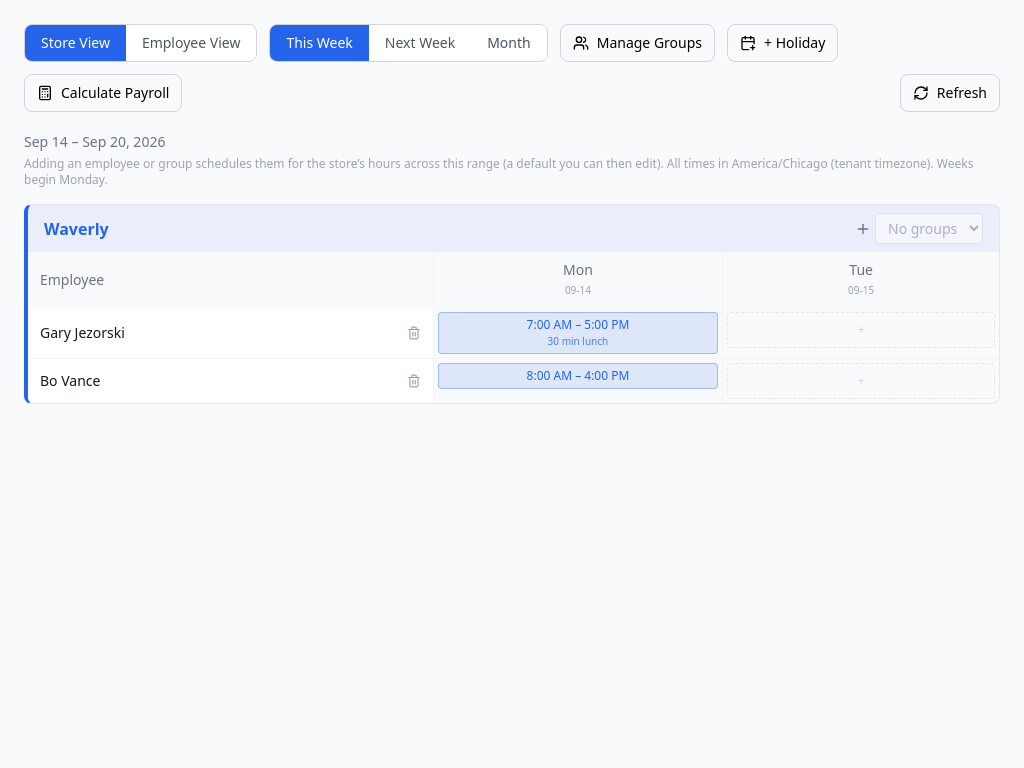
Test case: Calculate Payroll button › scopes an Employee View projection to the selected employee
Check: the heading "Waverly" is shown, box [44,216,109,240]
Click the button "Employee View" at {"x": 191, "y": 43}, box [126,25,256,61]
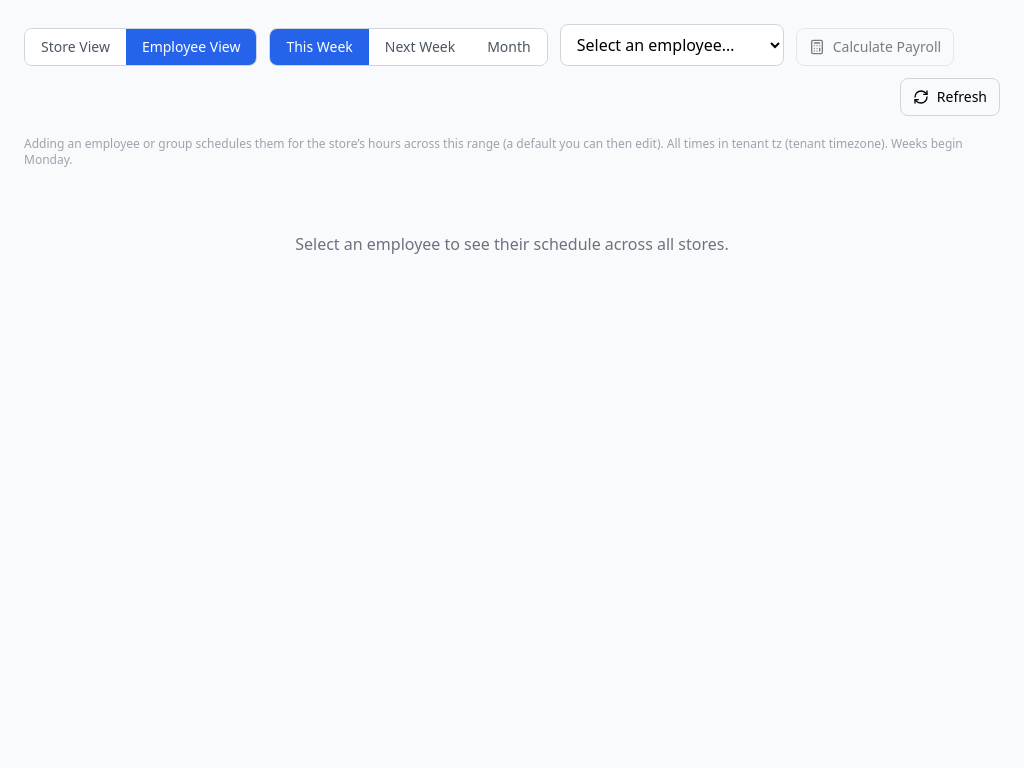
Check: the button "Calculate Payroll" is disabled, box [796,28,954,66]
Select "Gary Jezorski" in the dropdown showing "Select an employee…" at {"x": 672, "y": 45}, box [560,24,784,66]
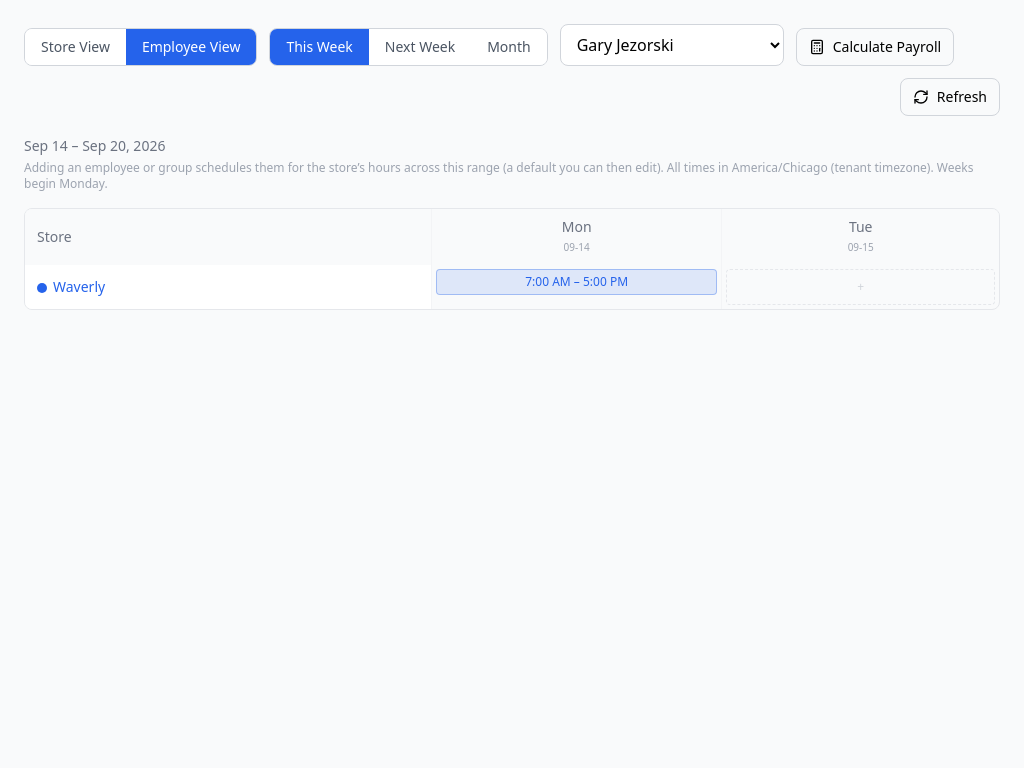
Check: the button "Calculate Payroll" is enabled
Click the button "Calculate Payroll" at {"x": 875, "y": 47}, box [796,28,954,66]
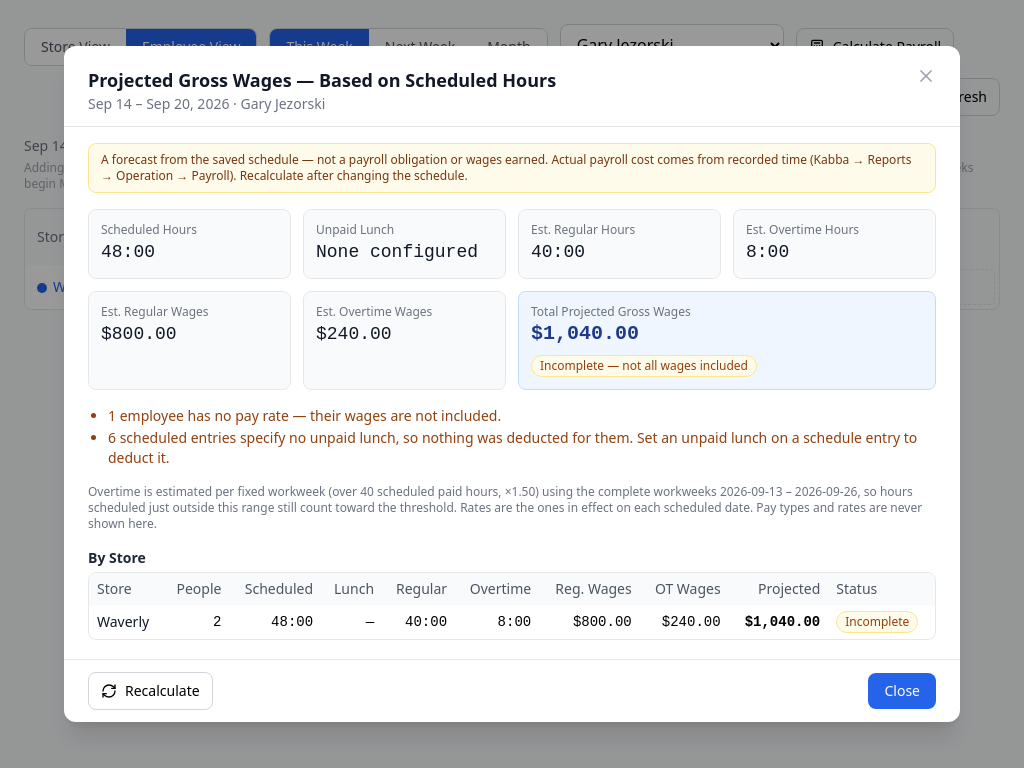
Check: the text "Sep 14 – Sep 20, 2026 · Gary Jezorski" is shown, box [88,94,325,113]
